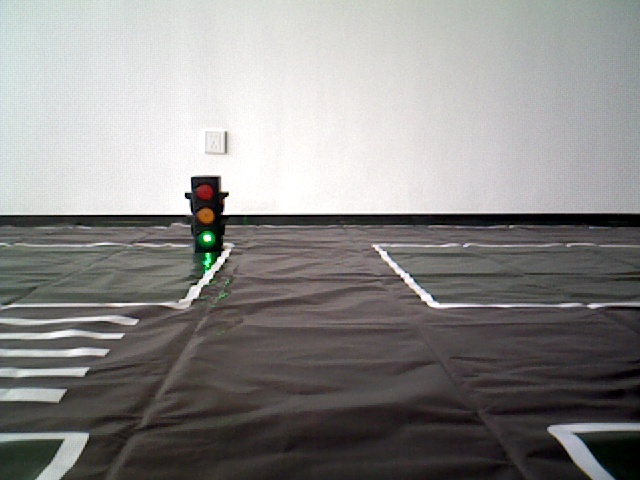green: (192, 177, 219, 247)
